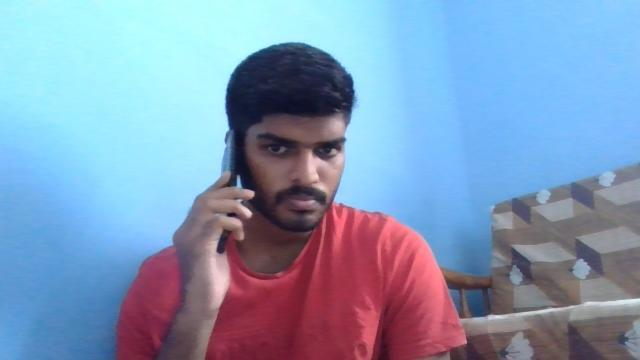PhoneUse: (214, 138, 236, 256)
SafeDriving: (256, 136, 300, 158), (310, 138, 348, 161)
